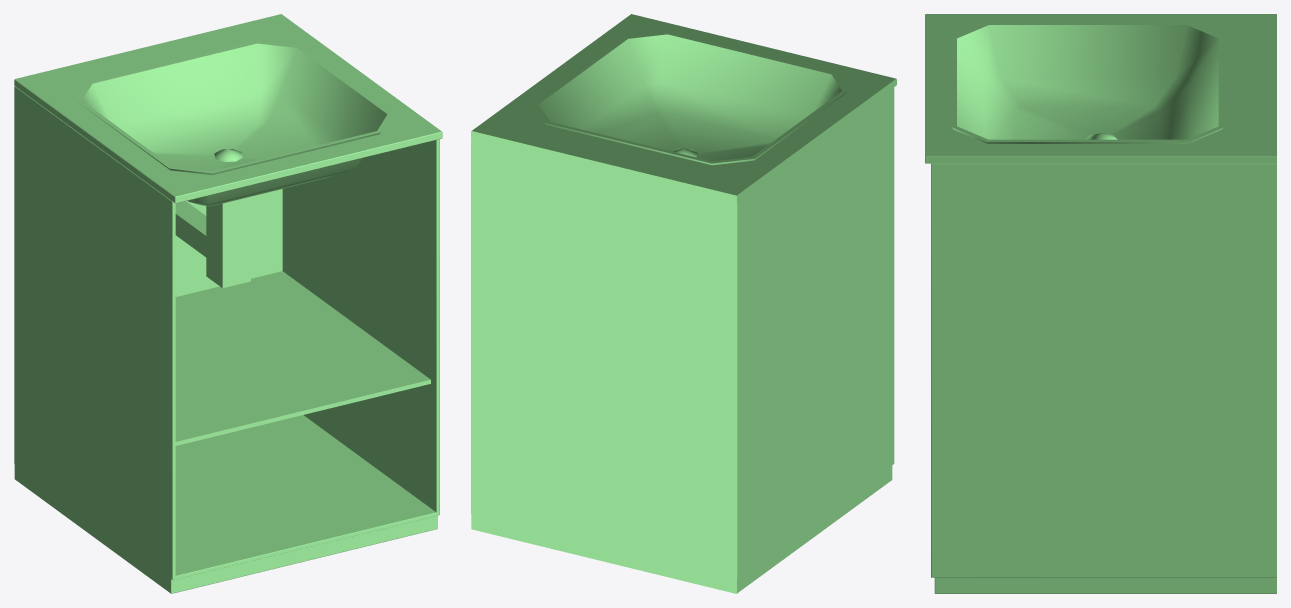
Rendered from RFAIPP_Kitchen_Sink.FBX.
The picture shows the model from 3 angles, left to right: view 1: azimuth 30°, elevation 25°; view 2: azimuth 150°, elevation 25°; view 3: azimuth 270°, elevation 25°; orthographic projection. The views are drawn at different scales.
Visible parts, largest first — view 1: RFAIPP_Kitchen_Sink; view 2: RFAIPP_Kitchen_Sink; view 3: RFAIPP_Kitchen_Sink.
Boxes of the visible parts, x1=… form: RFAIPP_Kitchen_Sink: x1=14, y1=14, x2=442, y2=593; RFAIPP_Kitchen_Sink: x1=471, y1=14, x2=896, y2=593; RFAIPP_Kitchen_Sink: x1=925, y1=14, x2=1276, y2=593.
Size of the model in its own units: 0.6 by 0.8633 by 0.625.
